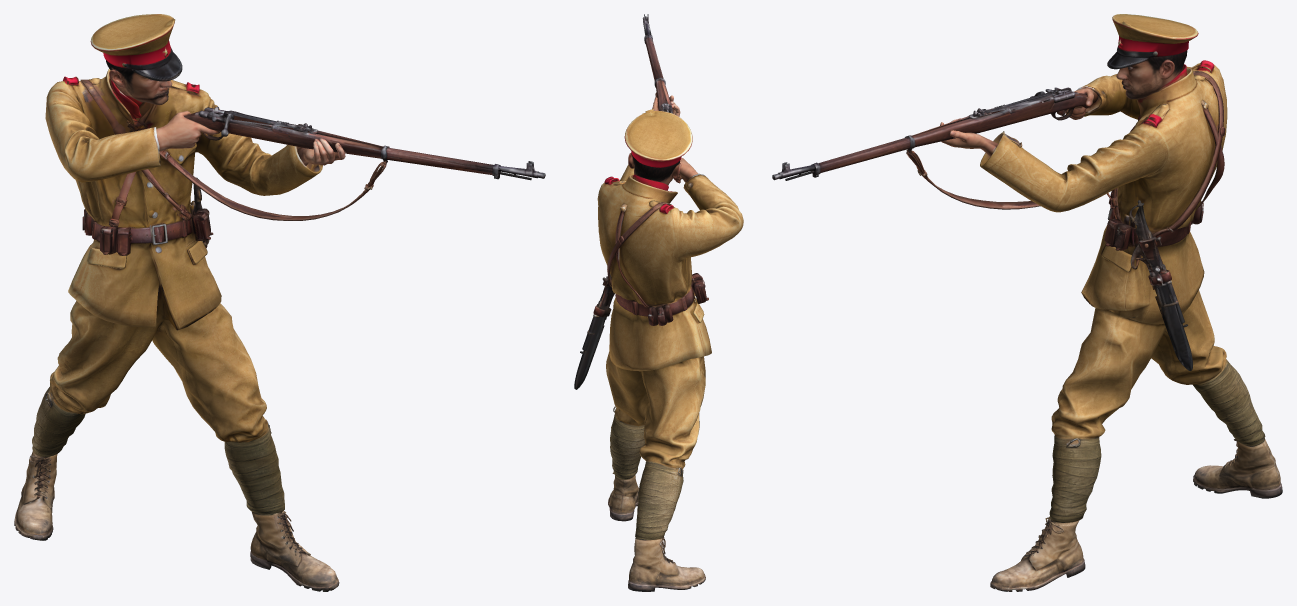
Rendered from soldier_1.glb.
3 renders of one model, left to right at view 1: azimuth 30°, elevation 25°; view 2: azimuth 150°, elevation 25°; view 3: azimuth 270°, elevation 25°, orthographic. The views are drawn at different scales.
Parts seen in each view (by area): view 1: tripo_node_e004c10f-4c2b-43bd-a15f-ee2bdf15d2e7; view 2: tripo_node_e004c10f-4c2b-43bd-a15f-ee2bdf15d2e7; view 3: tripo_node_e004c10f-4c2b-43bd-a15f-ee2bdf15d2e7.
Boxes of the visible parts, x1,y1,x2,y2 form: tripo_node_e004c10f-4c2b-43bd-a15f-ee2bdf15d2e7: [14, 14, 545, 591]; tripo_node_e004c10f-4c2b-43bd-a15f-ee2bdf15d2e7: [574, 14, 743, 591]; tripo_node_e004c10f-4c2b-43bd-a15f-ee2bdf15d2e7: [772, 14, 1282, 591].
Bounding box in the file's own units: 0.5776 × 0.9995 × 0.8833.
Materials: 1 (1 with a texture image).
